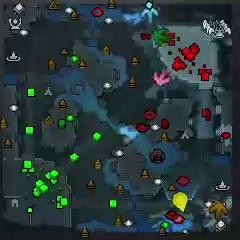p4: (173, 191, 189, 213)
x1: (153, 69, 171, 87)
x3: (140, 6, 159, 23)
x4: (153, 27, 171, 46)
x5: (209, 202, 228, 221)
